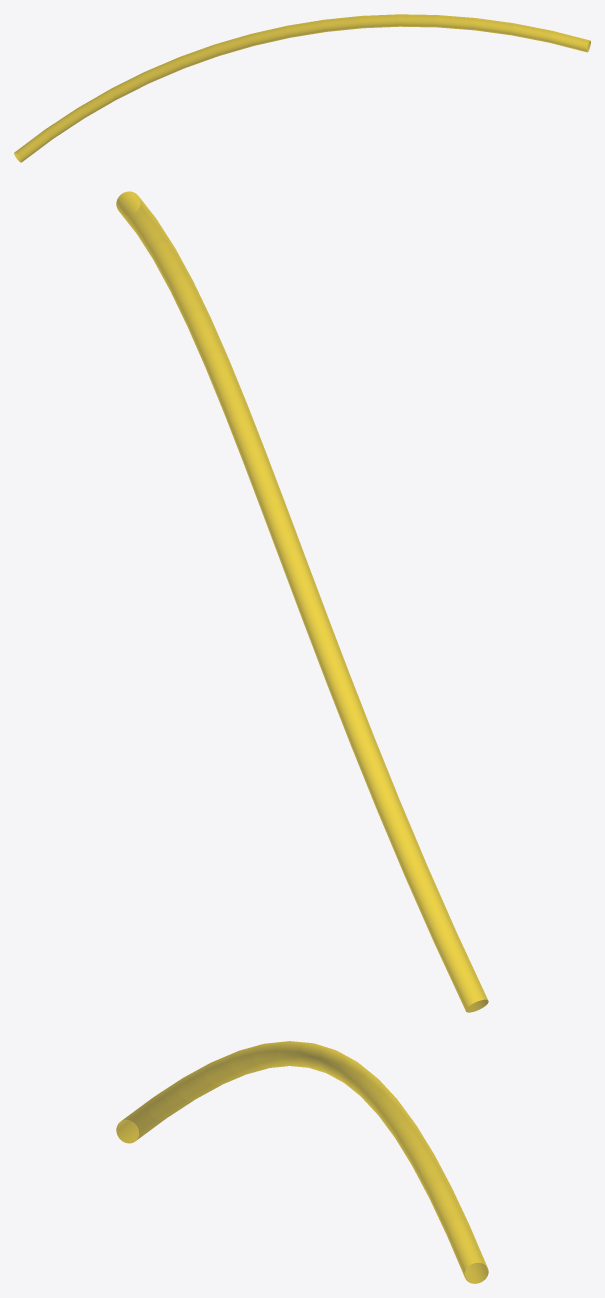
The model's file is Event_419990632_track_36.fbx.
3 views of the same model, one above another, from view 1: azimuth 30°, elevation 25°; view 2: azimuth 150°, elevation 25°; view 3: azimuth 330°, elevation 25° (orthographic). The views are drawn at different scales.
Visible parts, largest first — view 1: Model; view 2: Model; view 3: Model.
Boxes of the visible parts, x1,y1,x2,y2 form: Model: (14, 14, 590, 162); Model: (116, 191, 488, 1012); Model: (116, 1041, 488, 1283).
Bounding box in the file's own units: 1.41 × 0.6473 × 1.3.
